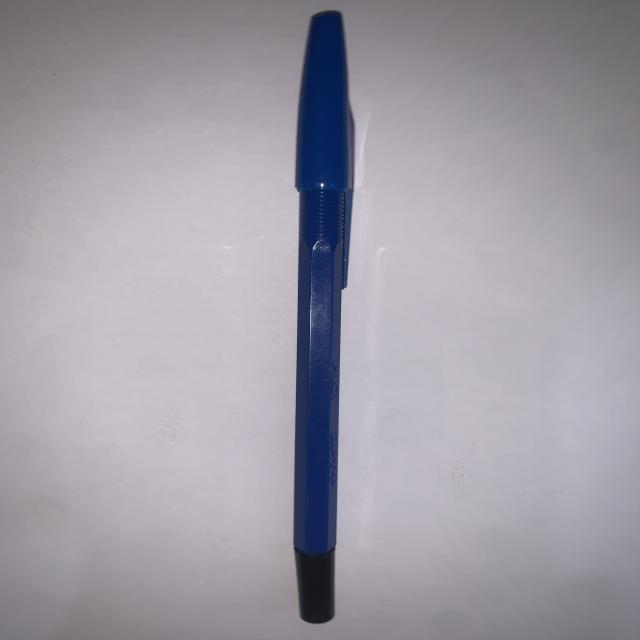Pulpen: (288, 0, 372, 635)
